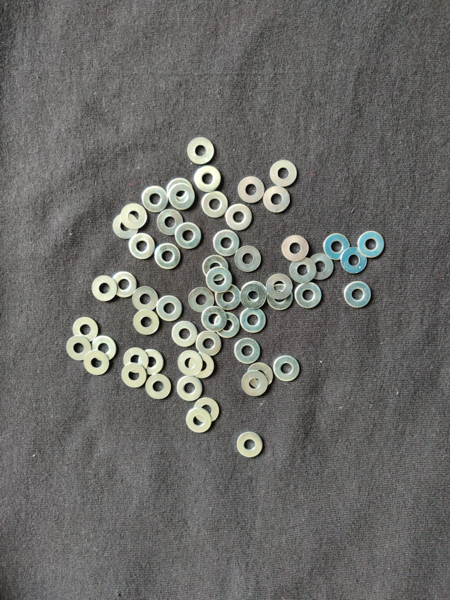circle: (194, 165, 222, 193), (263, 186, 290, 214), (226, 203, 253, 231), (358, 231, 385, 258), (324, 234, 351, 261), (235, 246, 262, 273), (206, 267, 233, 294), (138, 349, 165, 376), (156, 295, 183, 322), (169, 183, 196, 210), (142, 186, 169, 213), (238, 176, 264, 204), (341, 247, 367, 274), (307, 254, 334, 280), (282, 236, 309, 262), (295, 283, 322, 309), (247, 363, 274, 389), (237, 432, 264, 458), (271, 160, 297, 187), (267, 284, 293, 311), (240, 284, 267, 310), (235, 338, 261, 365), (240, 308, 267, 334), (201, 306, 227, 333), (202, 191, 228, 218), (187, 138, 214, 164), (175, 223, 202, 249), (167, 179, 193, 206), (121, 204, 148, 230), (172, 322, 199, 348), (345, 282, 371, 308), (290, 257, 316, 283), (274, 356, 300, 382), (242, 371, 268, 397), (194, 397, 220, 423), (186, 407, 212, 433), (267, 274, 293, 300), (203, 255, 229, 281), (214, 230, 240, 256), (196, 331, 222, 357), (189, 353, 215, 379), (177, 376, 203, 402), (146, 374, 172, 400), (92, 276, 118, 302), (155, 243, 181, 269), (129, 234, 155, 260), (91, 336, 117, 362), (84, 350, 110, 376), (178, 350, 203, 377), (133, 310, 160, 335), (112, 271, 137, 298), (158, 209, 183, 236), (242, 281, 267, 307), (215, 313, 240, 339), (216, 284, 241, 310), (189, 288, 215, 313), (124, 348, 150, 373), (133, 287, 159, 312), (113, 214, 138, 240), (73, 318, 99, 343), (122, 363, 147, 388), (67, 336, 92, 361)
